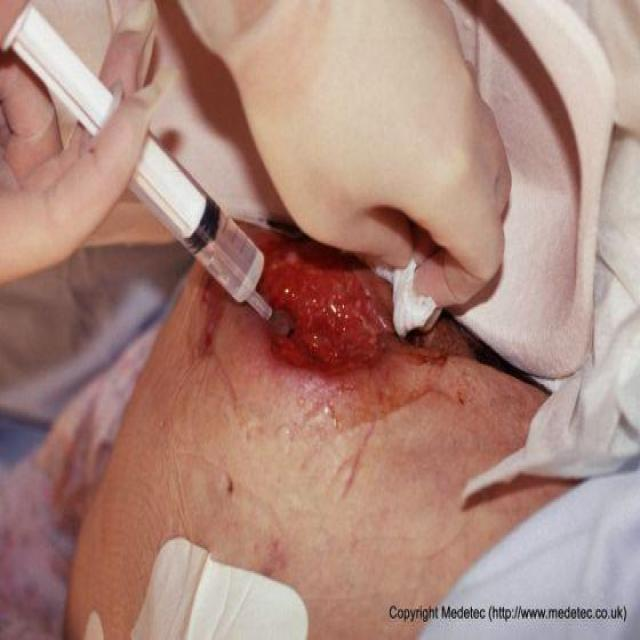stage-3: (256, 232, 394, 371)
